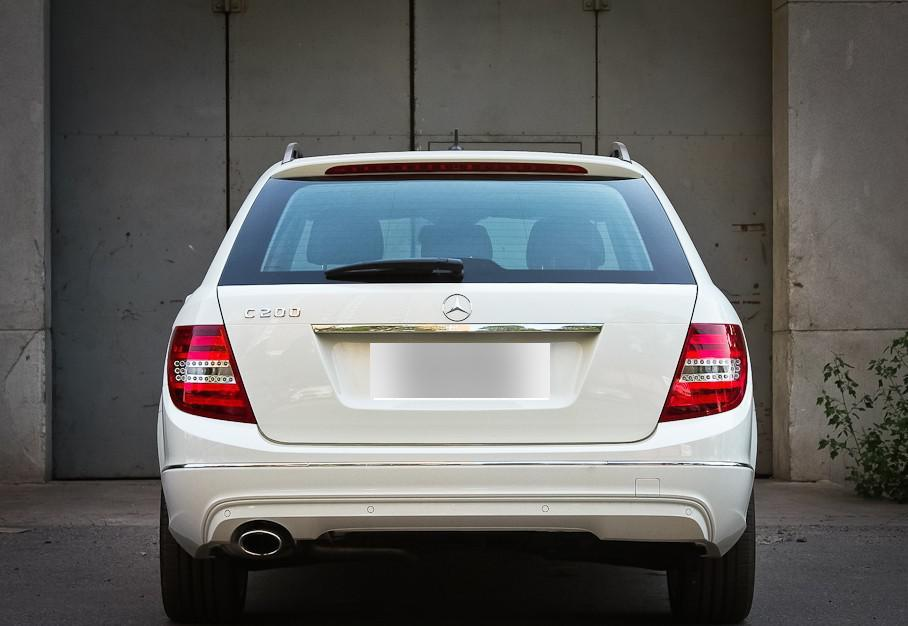Wagon: (154, 141, 760, 623)
